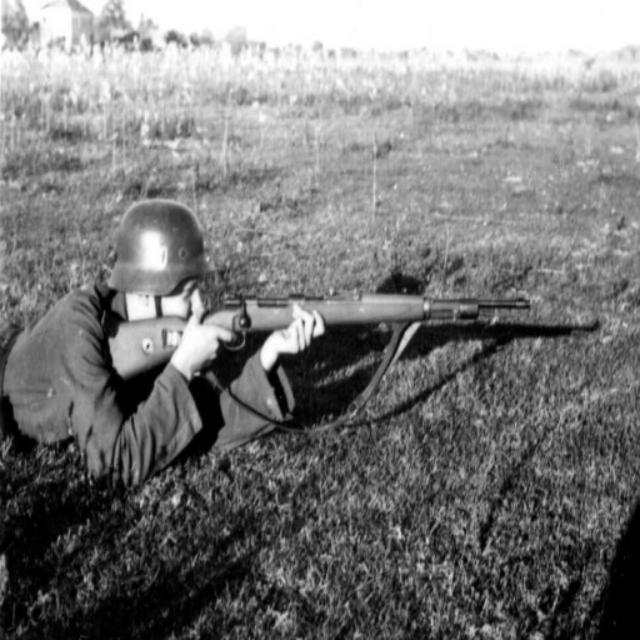other: (0, 206, 318, 468)
